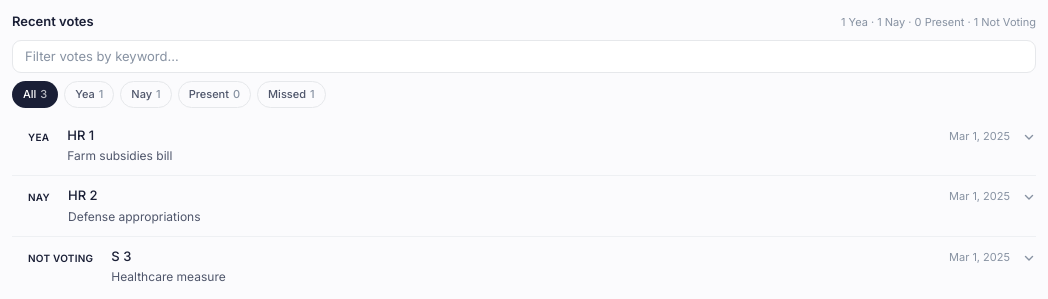
Test: <VoteList> › filters by keyword
Type "healthcare" into the field with placeholder "Filter votes by keyword…" at (524, 56), box x1=12 y1=40 x2=1036 y2=73
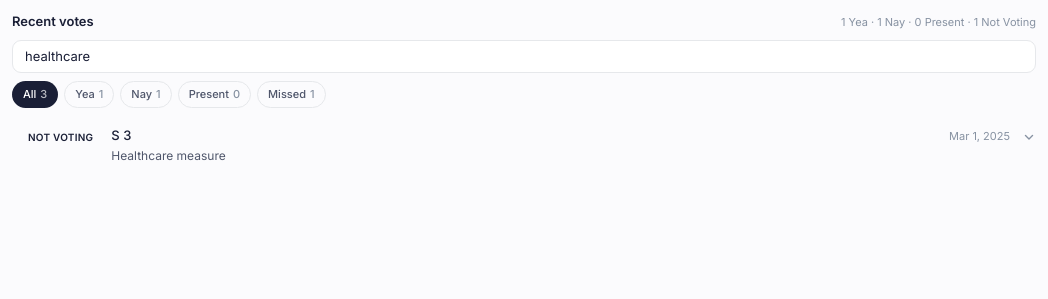
Check: the text "S 3" is shown, box x1=111 y1=126 x2=131 y2=145
Check: the button "HR 1" is gone
